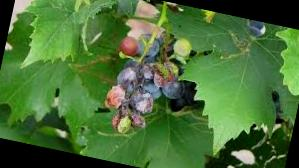Grape Rotten: (98, 18, 206, 146)
